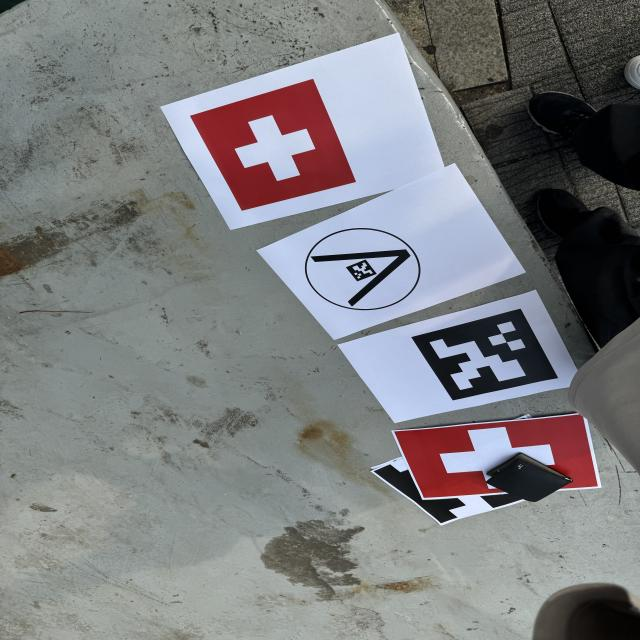ArUro mark: (412, 309, 557, 401)
rescue point: (193, 79, 355, 211)
vertiport: (302, 225, 422, 312)
